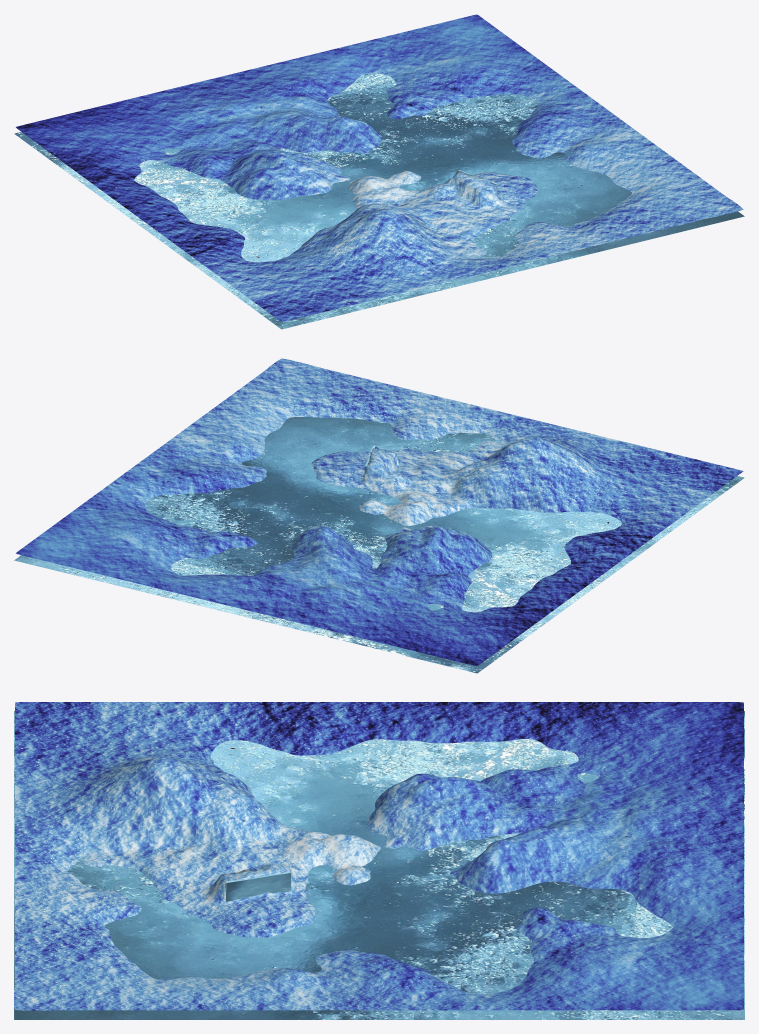
File: frozen_lake.glb
3 views of the same model, one above another, from view 1: azimuth 30°, elevation 25°; view 2: azimuth 150°, elevation 25°; view 3: azimuth 270°, elevation 25° (orthographic). The views are drawn at different scales.
Parts seen in each view (by area): view 1: snow, icelake; view 2: snow, icelake; view 3: snow, icelake, Cube.
Boxes of the visible parts, bbox=[...] form: snow: bbox=[16, 14, 743, 321]; icelake: bbox=[14, 73, 744, 329]; snow: bbox=[16, 358, 743, 665]; icelake: bbox=[14, 417, 744, 673]; snow: bbox=[14, 702, 743, 1010]; icelake: bbox=[14, 711, 744, 1019]; Cube: bbox=[225, 872, 290, 901].
Bounding box in the file's own units: 22.13 × 3.04 × 22.13.
Materials: 2 (2 with a texture image).
